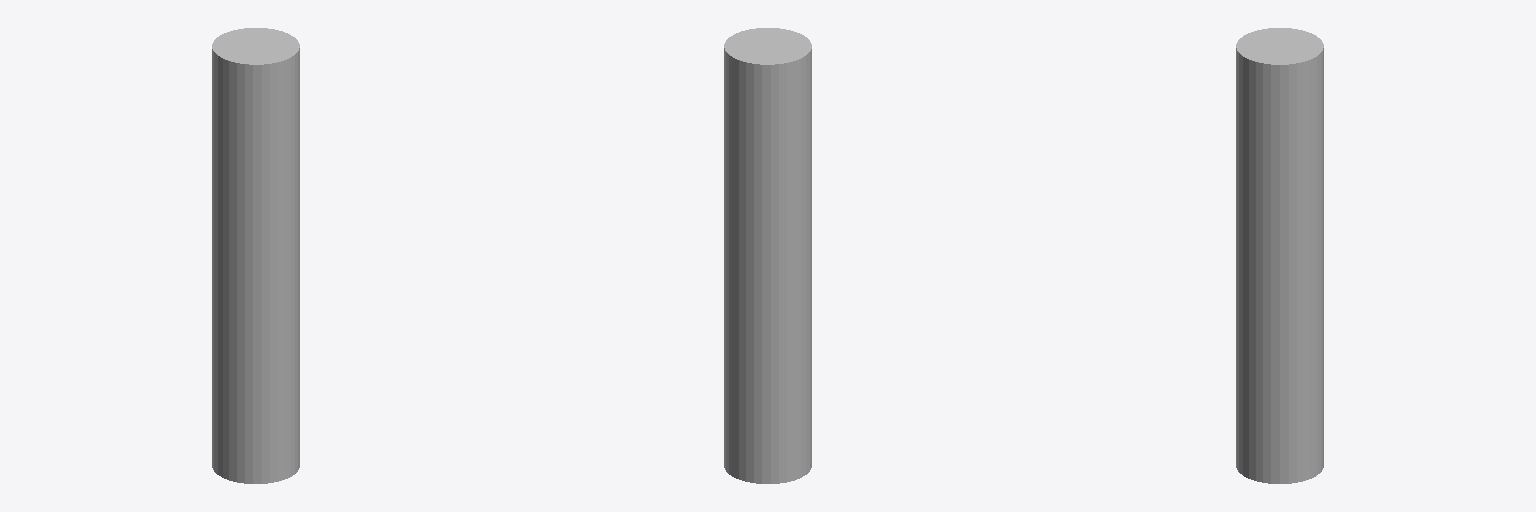
The model's file is waterfall.obj.
The picture shows the model from 3 angles: view 1: azimuth 30°, elevation 25°; view 2: azimuth 150°, elevation 25°; view 3: azimuth 270°, elevation 25°; orthographic projection.
Visible parts, largest first — view 1: Cylinder_Cylinder.001; view 2: Cylinder_Cylinder.001; view 3: Cylinder_Cylinder.001.
Part boxes in pixels (left/top/right/bottom): Cylinder_Cylinder.001: left=212, top=28, right=299, bottom=483; Cylinder_Cylinder.001: left=724, top=28, right=811, bottom=483; Cylinder_Cylinder.001: left=1236, top=28, right=1323, bottom=483.
Bounding box in the file's own units: 12.88 × 67.83 × 12.88.